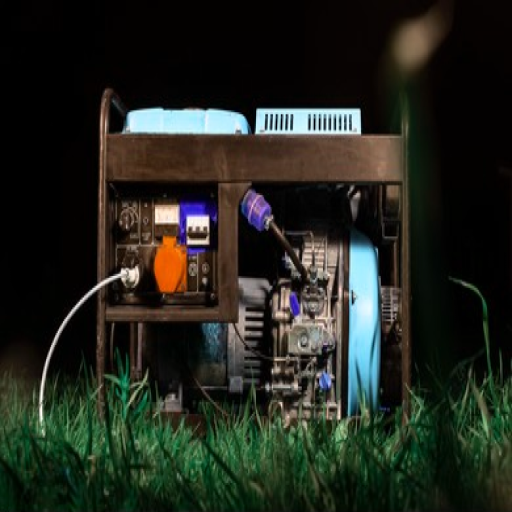portable_generator: (94, 86, 411, 438)
